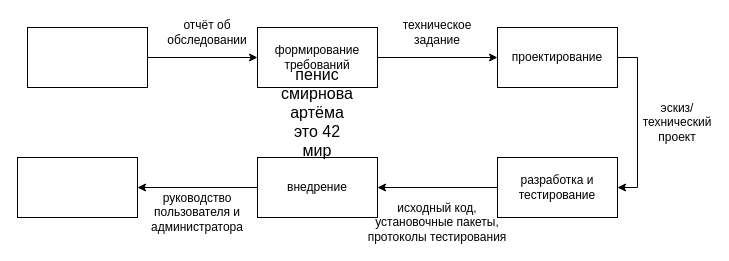
The diagram is 729 pixels wide and 261 high, and some of its shapes have lost their labels. The centre of each missing label's shape, as x and y in pixels:
"предпроектное обследование" belongs at (x=87, y=57).
"сопровождение" belongs at (x=77, y=187).
